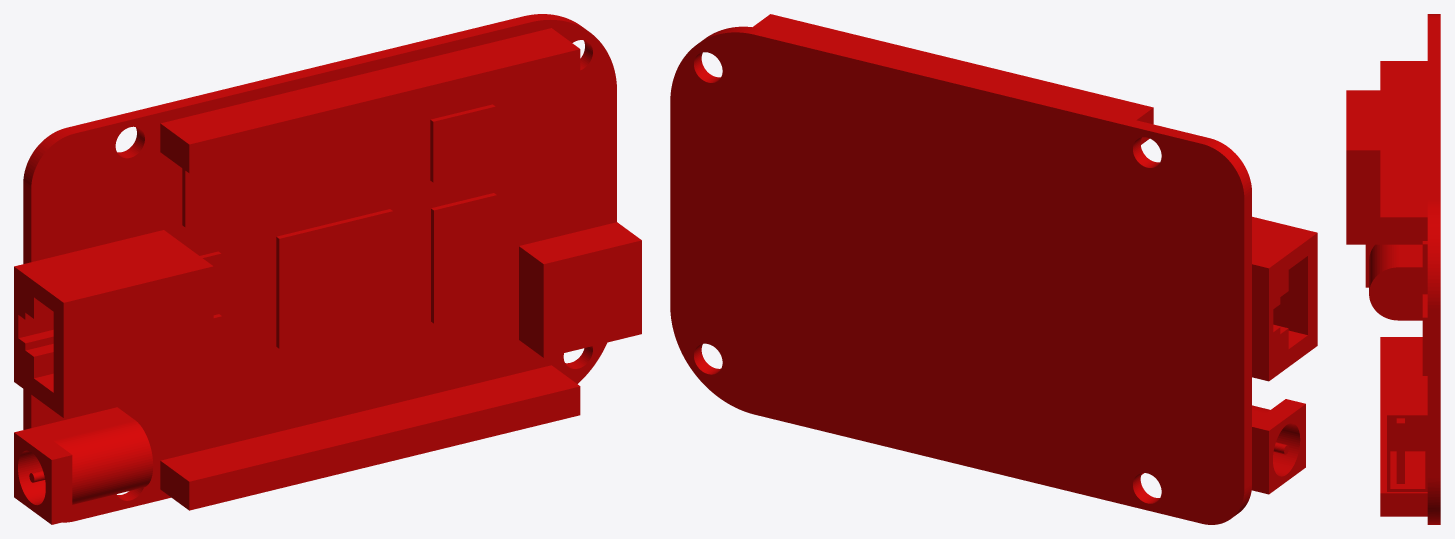
File: beaglebone.dae
3 renders of one model, left to right at view 1: azimuth 30°, elevation 25°; view 2: azimuth 150°, elevation 25°; view 3: azimuth 270°, elevation 25°, orthographic. The views are drawn at different scales.
Parts seen in each view (by area): view 1: node0; view 2: node0; view 3: node0.
Part boxes in pixels (x1,y1,x2,y2): node0: [14, 14, 641, 524]; node0: [670, 14, 1317, 524]; node0: [1346, 14, 1440, 524].
Size of the model in its own units: 88.9 by 14.73 by 54.61.
